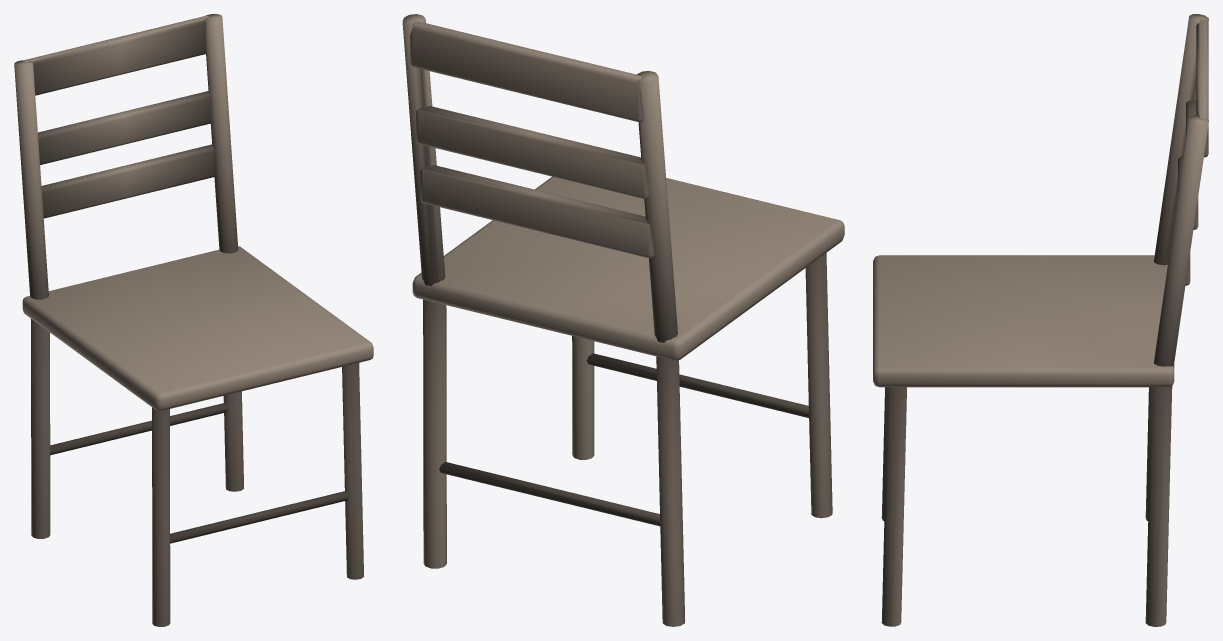
The model's file is chair.glb.
3 renders of one model, left to right at view 1: azimuth 30°, elevation 25°; view 2: azimuth 150°, elevation 25°; view 3: azimuth 270°, elevation 25°, orthographic. The views are drawn at different scales.
Parts seen in each view (by area): view 1: p_chair; view 2: p_chair; view 3: p_chair.
Boxes of the visible parts, x1=… form: p_chair: x1=14, y1=14, x2=373, y2=626; p_chair: x1=402, y1=14, x2=844, y2=626; p_chair: x1=873, y1=14, x2=1208, y2=626.
Bounding box in the file's own units: 0.45 × 0.9025 × 0.546.
